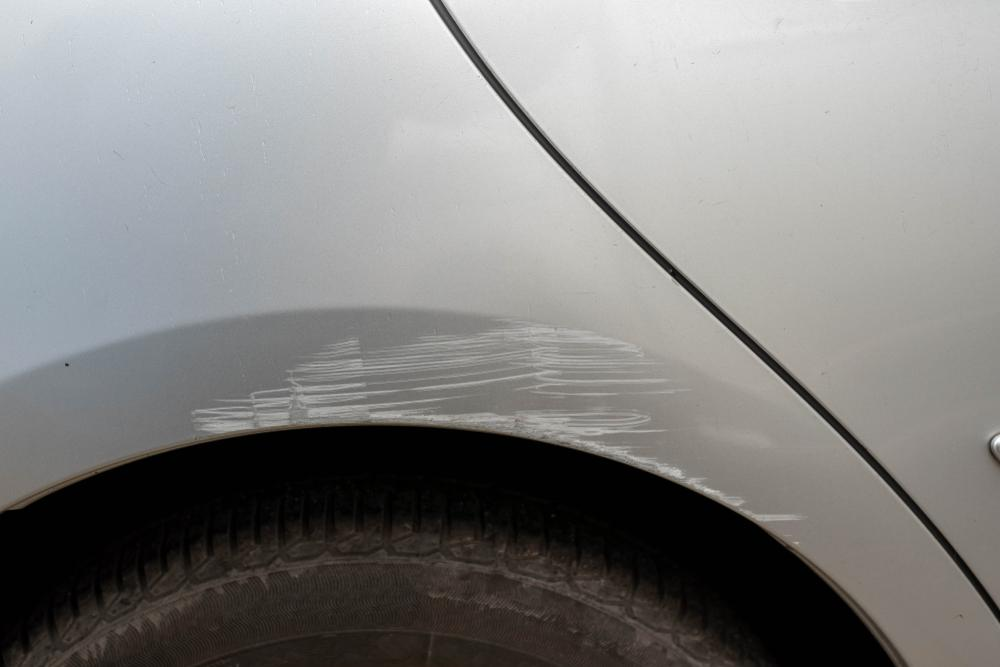scratch: (187, 320, 814, 550)
